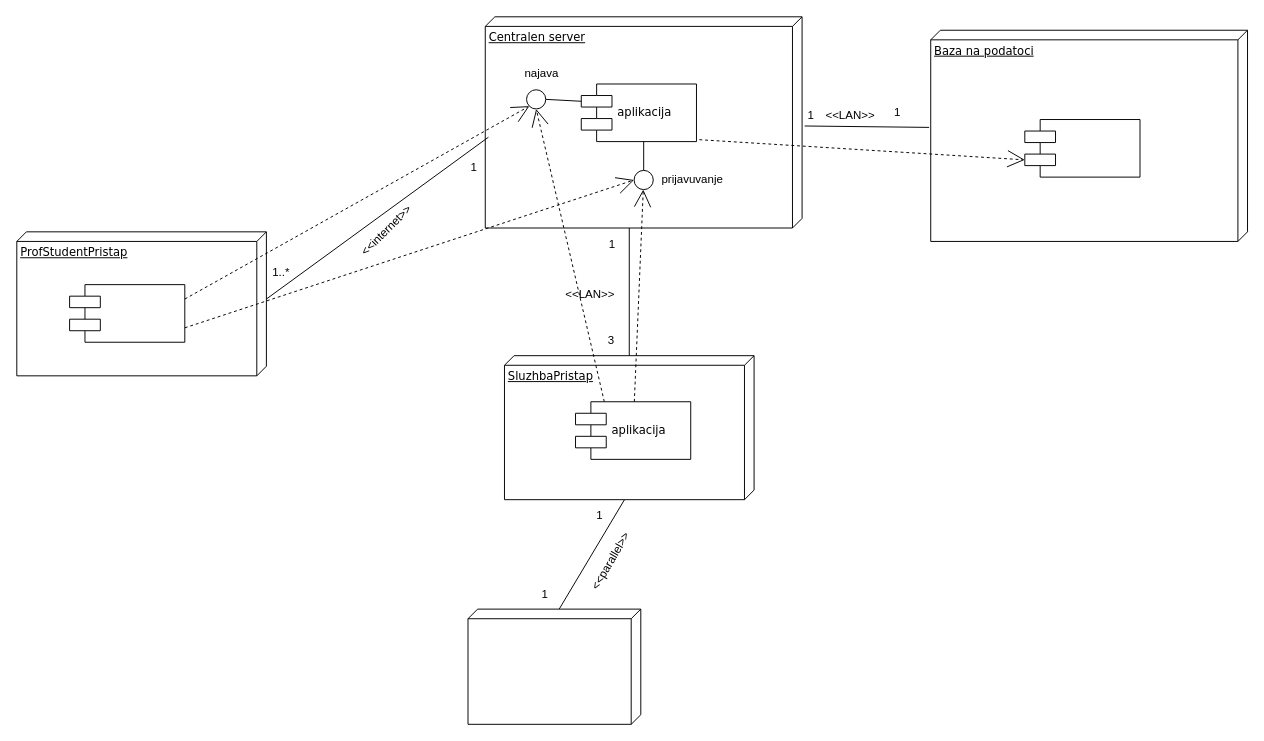
Some shapes in this 1264 by 741 pixel diagram are drawn without their labels. Each missing label, with the box of its shape:
<<table>> dataBase: (1024, 119, 1140, 177)
Printer: (467, 608, 641, 724)
web browser: (69, 284, 185, 342)
